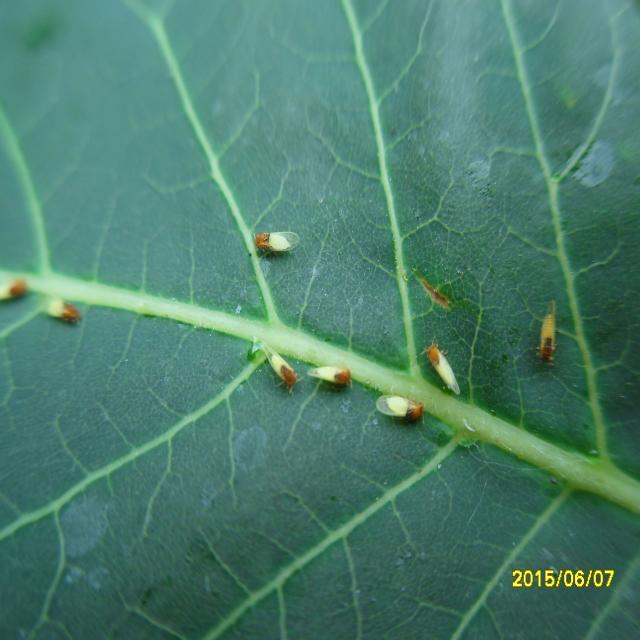Yechan: (302, 354, 354, 396), (422, 344, 463, 397), (256, 344, 297, 394), (374, 389, 427, 422), (532, 304, 557, 370), (248, 227, 302, 257)
